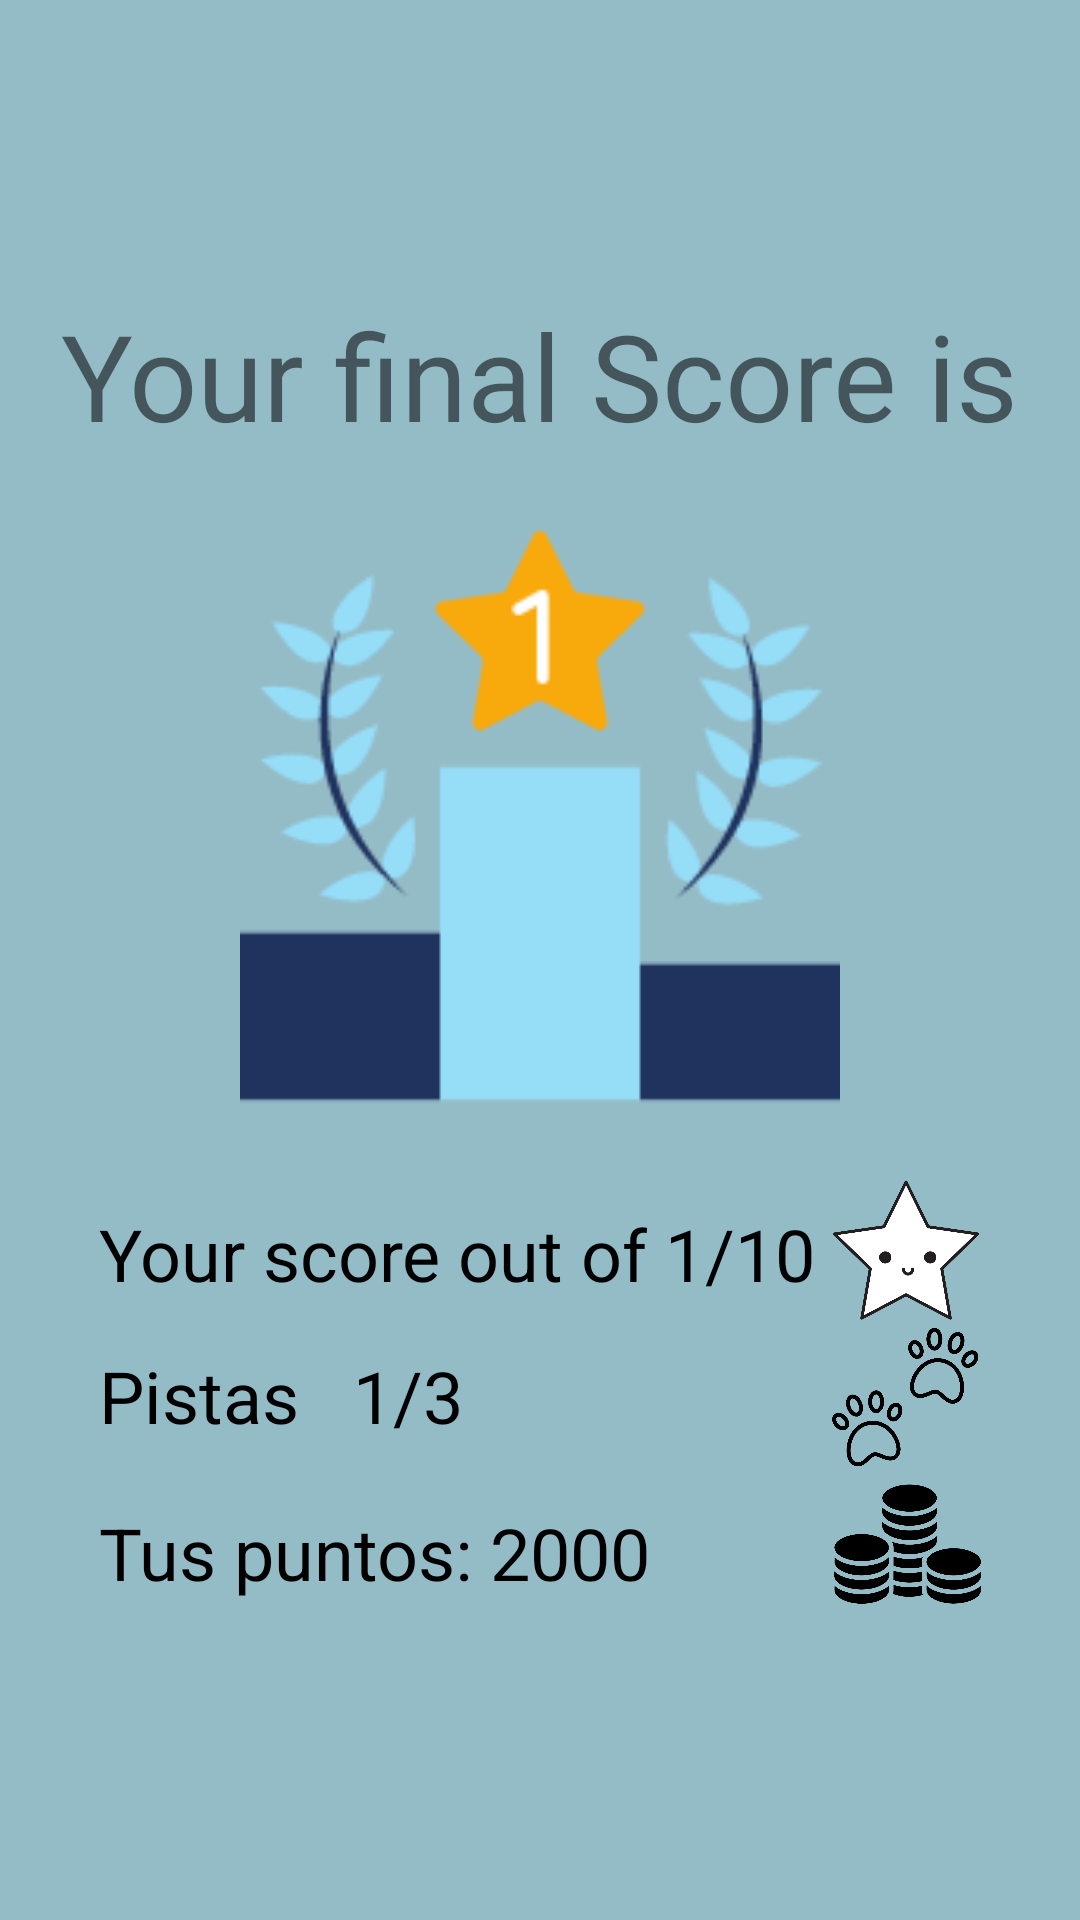

Named icons in this screenshot (1080 x 1920) and their centers, (x=x, y=y):
dineros: (x=907, y=1544)
estrellita: (x=906, y=1250)
patitas: (x=905, y=1397)
